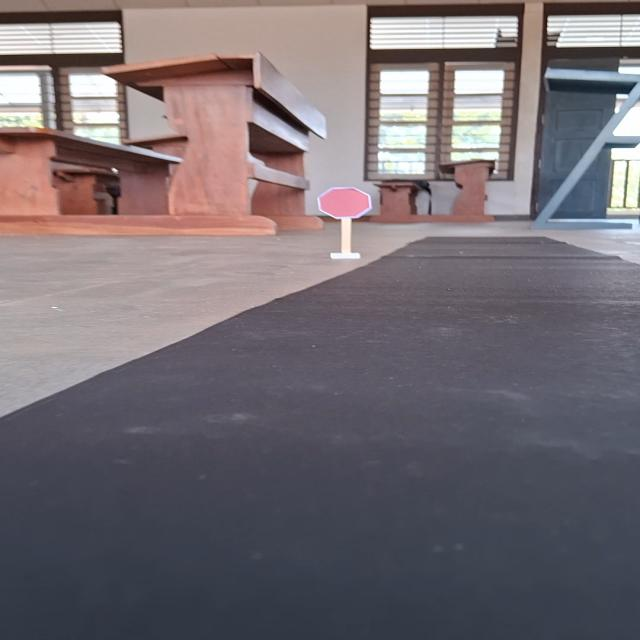Stop: (314, 186, 374, 219)
